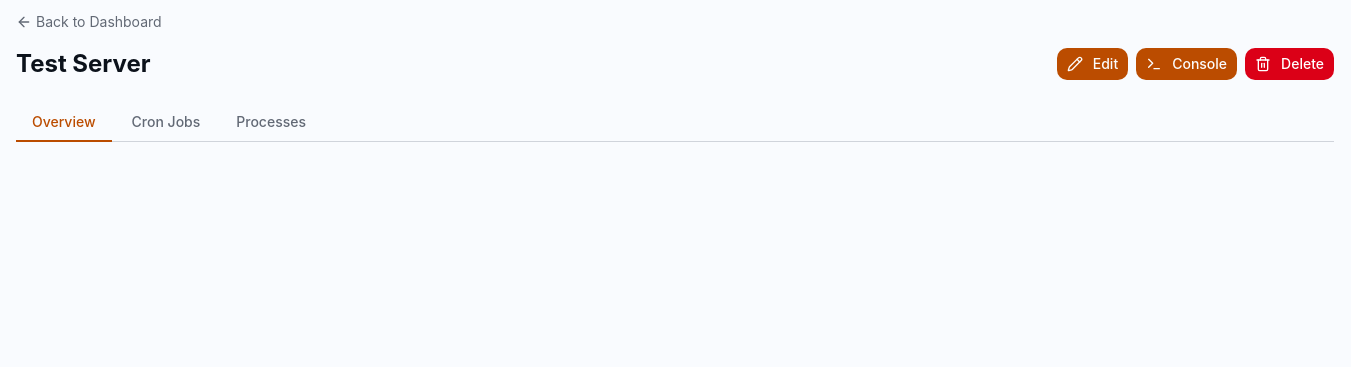
Test: ServerDetail — Processes tab › shows process count badge
Click the tab "Processes".
click(271, 123)  # box left=220, top=104, right=322, bottom=142
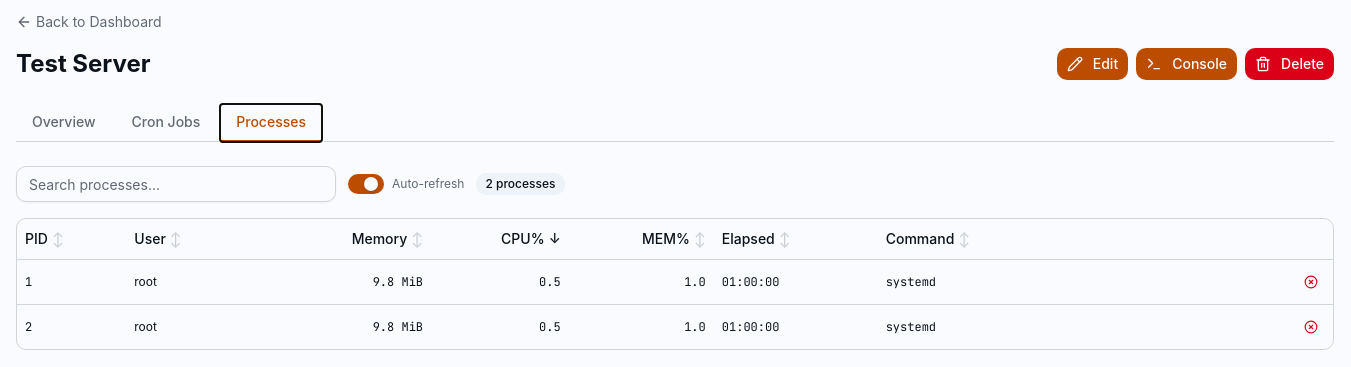
Expected: the text "2 processes" is shown, left=476, top=173, right=564, bottom=195
